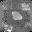people: (12, 11, 23, 21)
